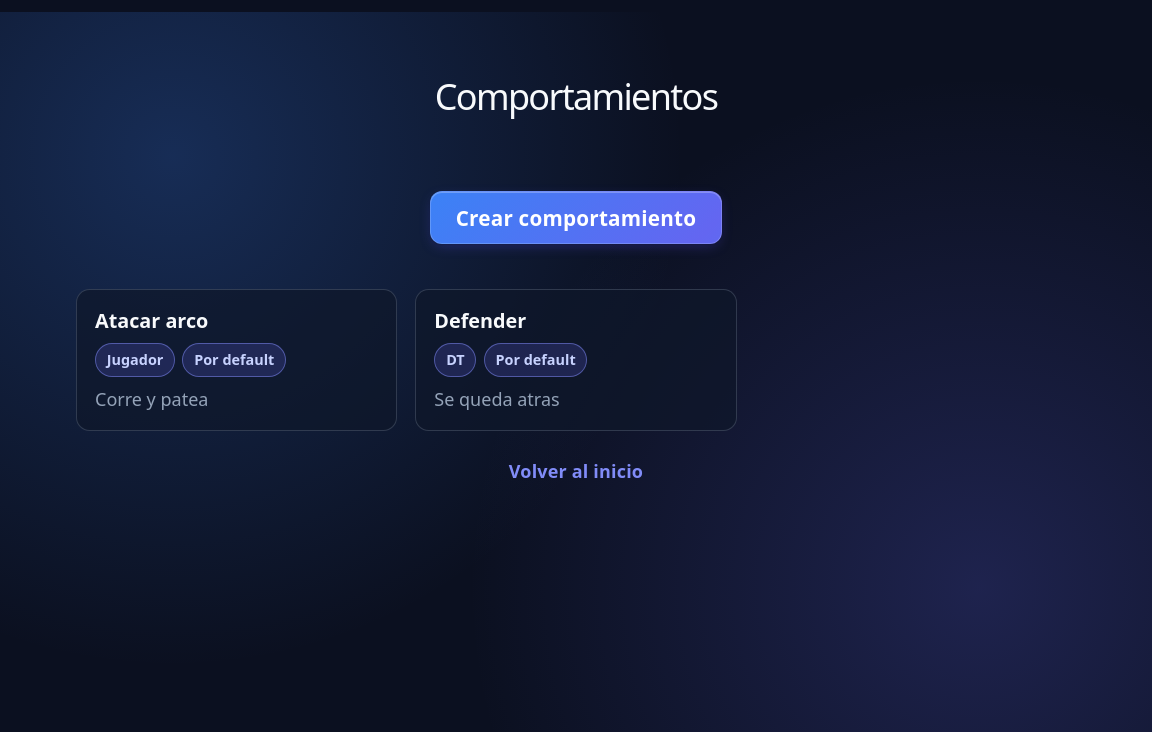
Test: BehaviorListPage › Interacciones › Debería volver al inicio con el enlace 'Volver al inicio'
The image size is (1152, 732).
Click the link "Volver al inicio": click(576, 471) [509,458,643,484]
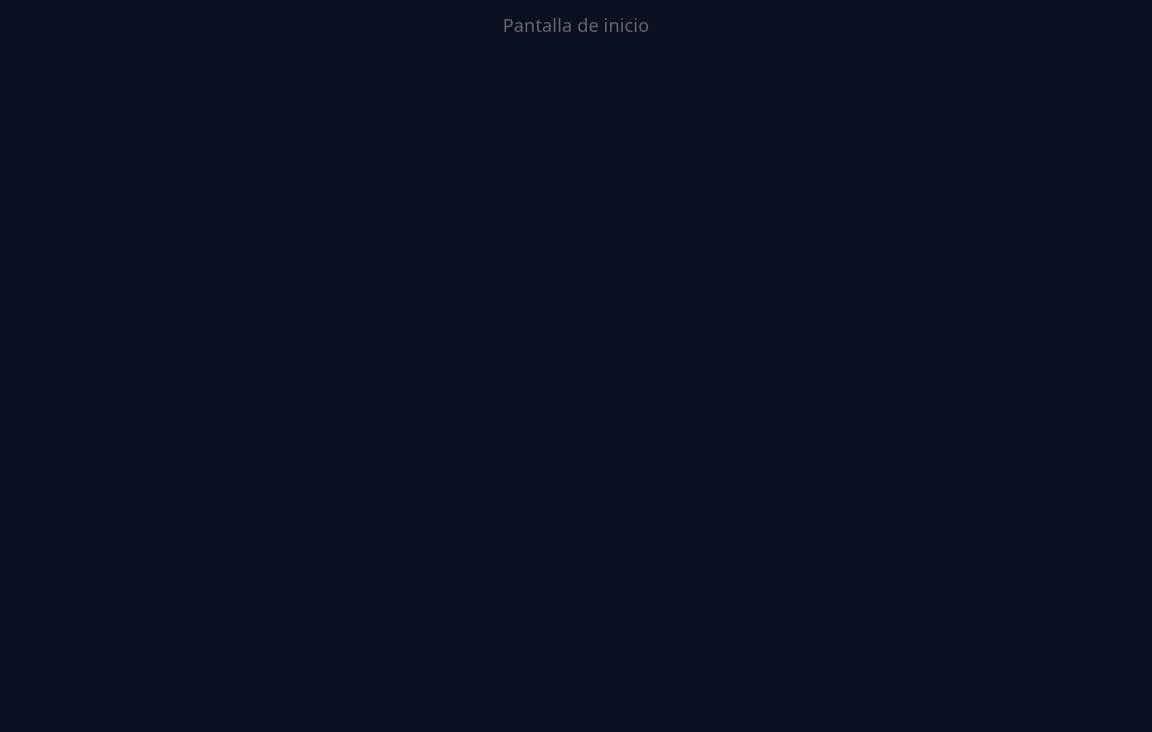
Expected: the text "Pantalla de inicio" is shown, [503,13,649,37]
